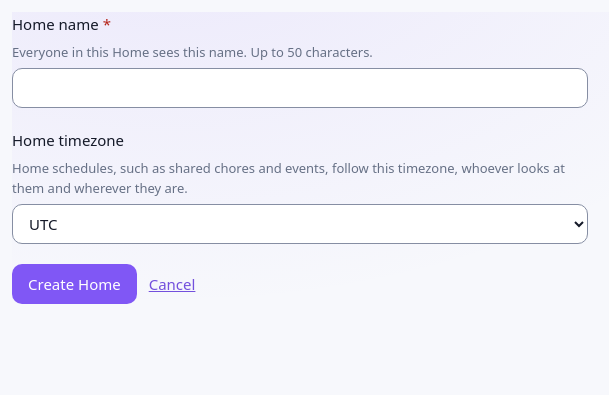
Test: CreateHomeForm › refreshes the page when the person turns out to be signed out
In the field labelled "Home name *": point(300, 88) x1=12 y1=68 x2=588 y2=108, type "Thuis"
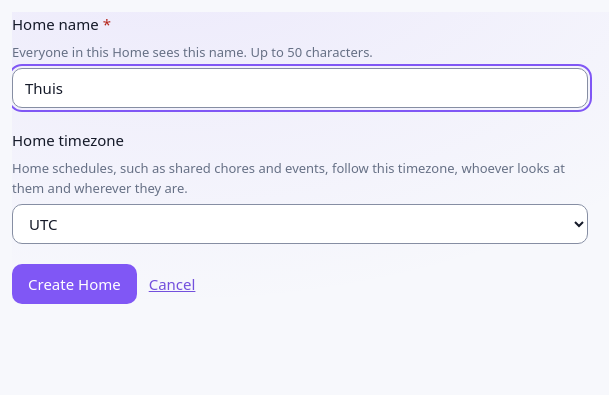
Click the button "Create Home": point(74, 284) x1=12 y1=264 x2=137 y2=304
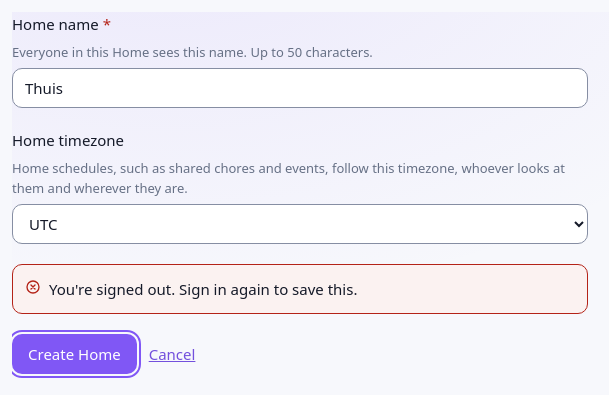
Check: the message shows "You're signed out", box x1=49 y1=279 x2=358 y2=299
